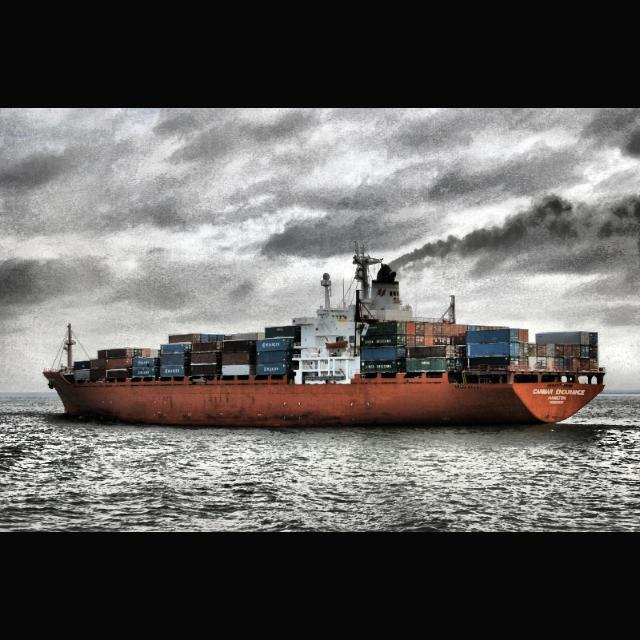container: (42, 257, 606, 427)
